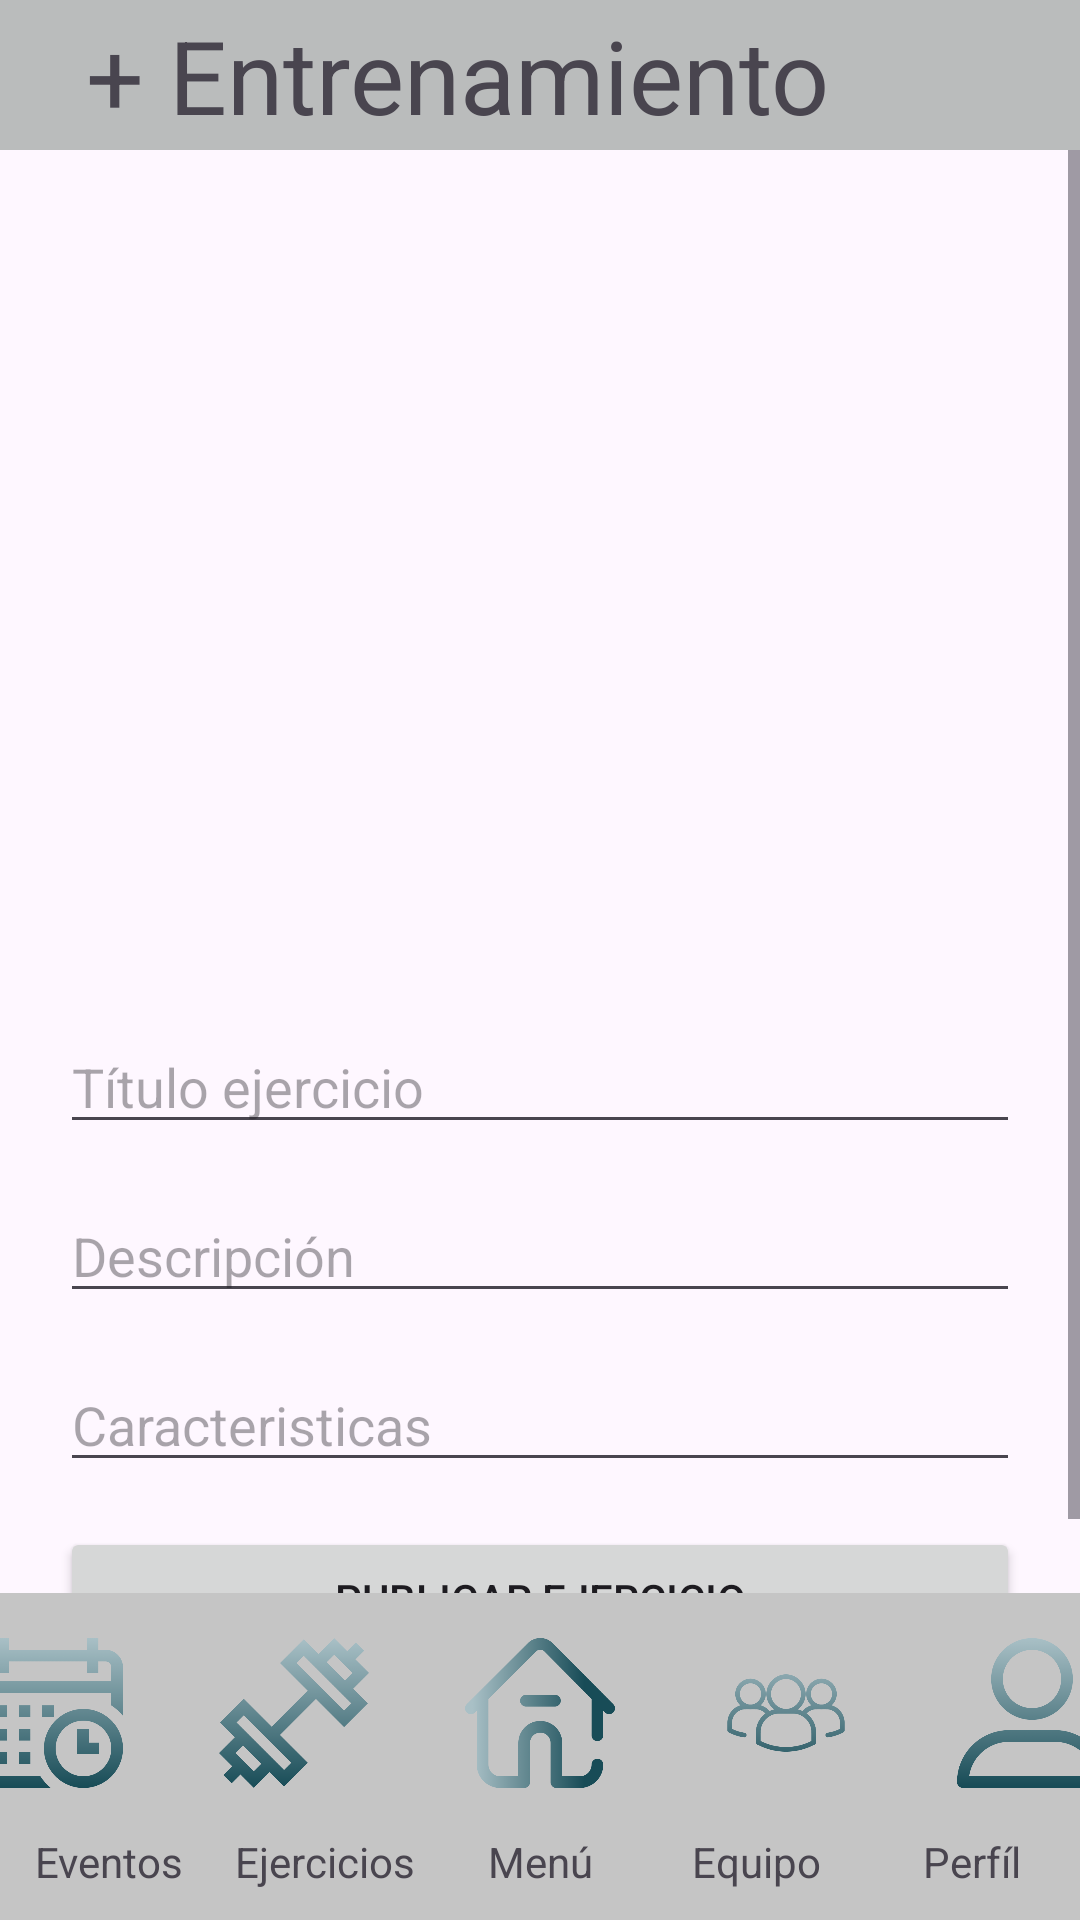

Screen size 1080*1920. Icon name, then its box in pixels as bbox=[x1, y1, x2, y2]:
grupo: bbox=[727, 1674, 845, 1752]
pesa: bbox=[219, 1639, 369, 1788]
